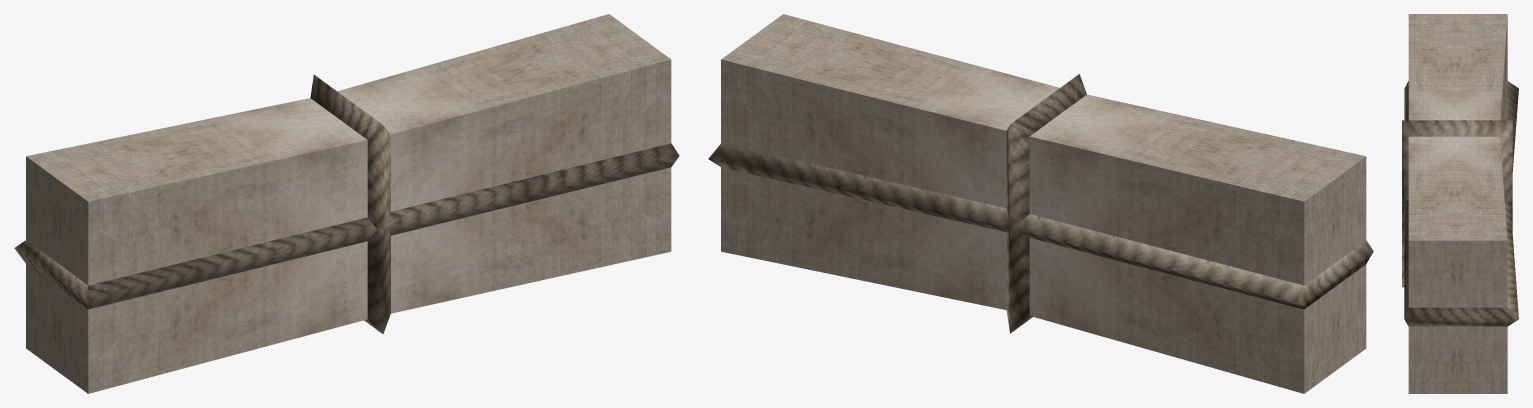
Rendered from Package_Type_03_A.fbx.
3 views of the same model, side by side, from view 1: azimuth 30°, elevation 25°; view 2: azimuth 150°, elevation 25°; view 3: azimuth 270°, elevation 25° (orthographic). The views are drawn at different scales.
Parts seen in each view (by area): view 1: Package_Type_03_A; view 2: Package_Type_03_A; view 3: Package_Type_03_A.
Boxes of the visible parts, x1,y1,x2,y2 form: Package_Type_03_A: (14,14,679,393); Package_Type_03_A: (708,14,1373,393); Package_Type_03_A: (1402,14,1518,393).
Bounding box in the file's own units: 1.21 × 0.409 × 0.2598.
